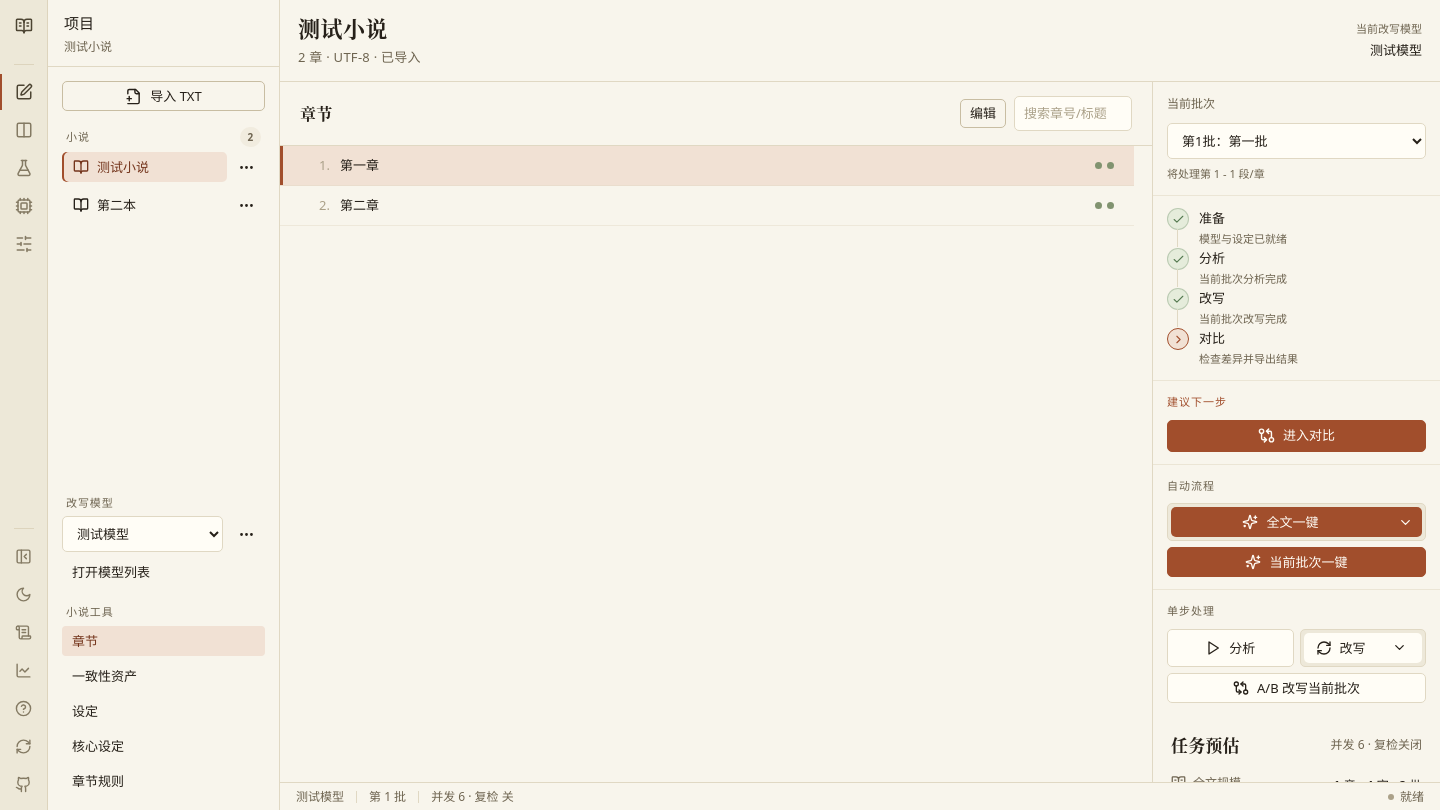
Test: App feature behavior › limits Compare editing during auto runs to batches before editable_before_batch_index
Expected: the heading "测试小说" is shown, x1=298 y1=12 x2=388 y2=43
Step 1. Click the button named "对比" → (24, 130), box x1=6 y1=112 x2=42 y2=148
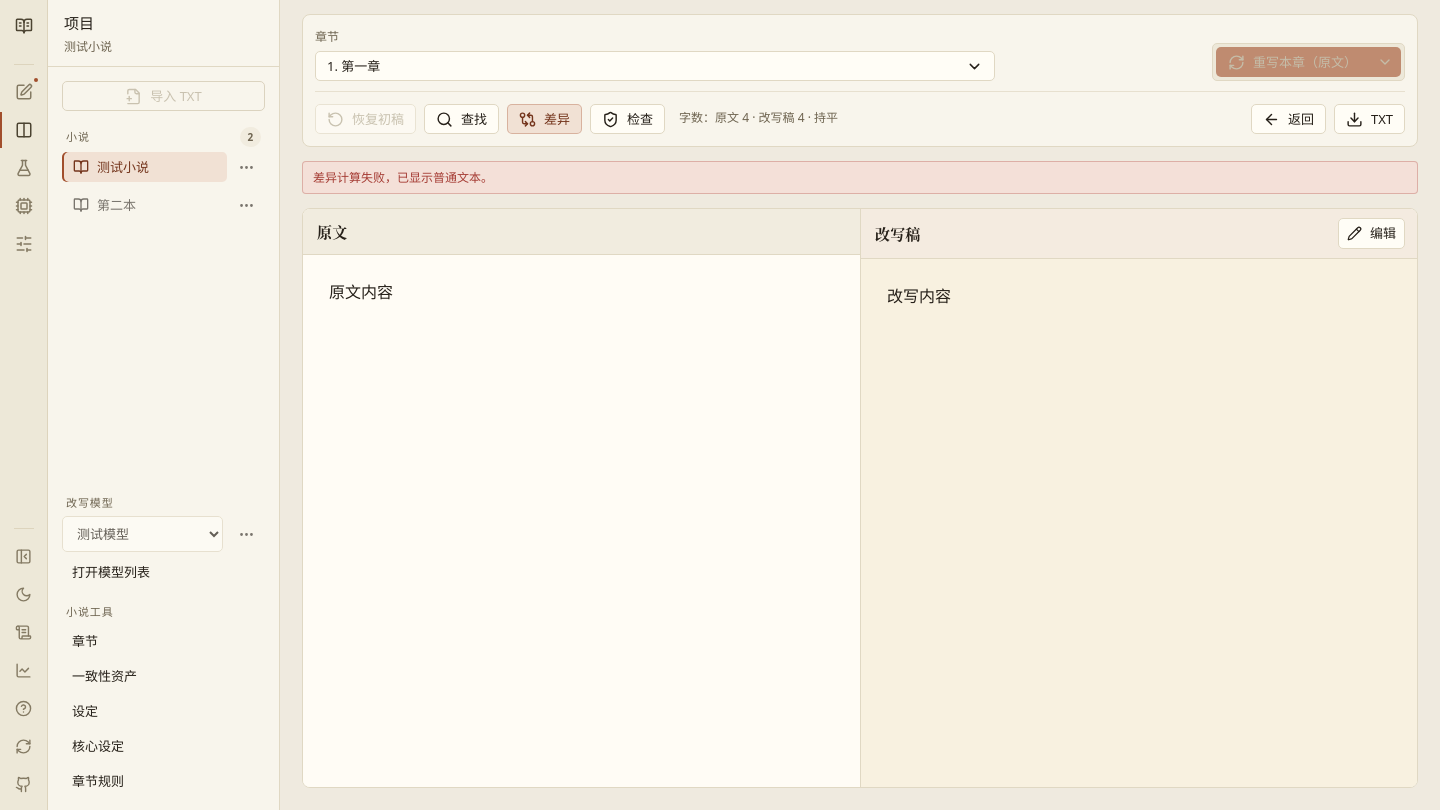
Expected: the button "编辑" is enabled, x1=1338 y1=218 x2=1405 y2=249
Now the button "重写本章（原文）" is disabled, box x1=1216 y1=47 x2=1369 y2=77
Step 2. Click the dropdown named "章节" → (354, 66), box x1=315 y1=51 x2=995 y2=81
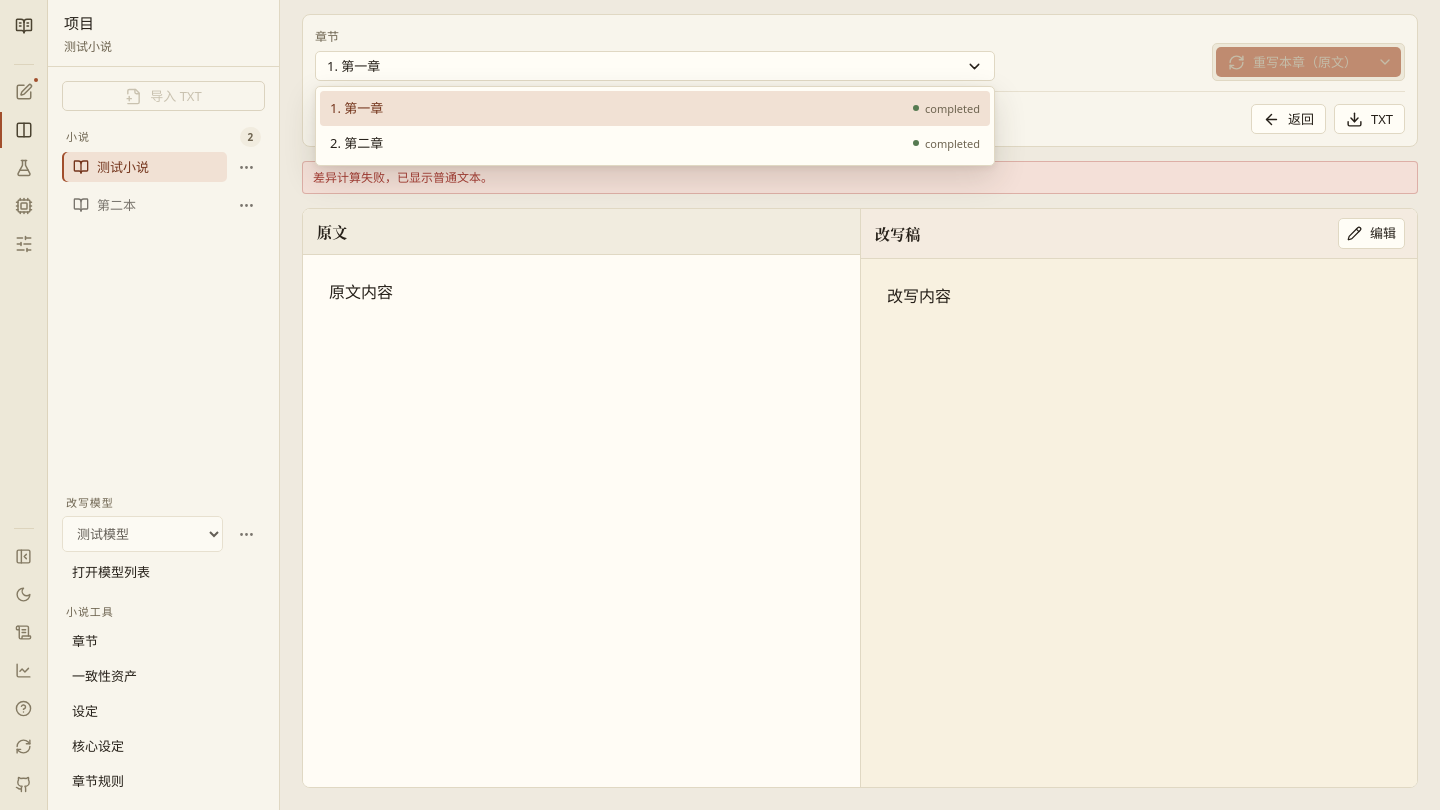
Step 3. Click the option "2. 第二章 completed" → (364, 143), box x1=320 y1=126 x2=990 y2=161
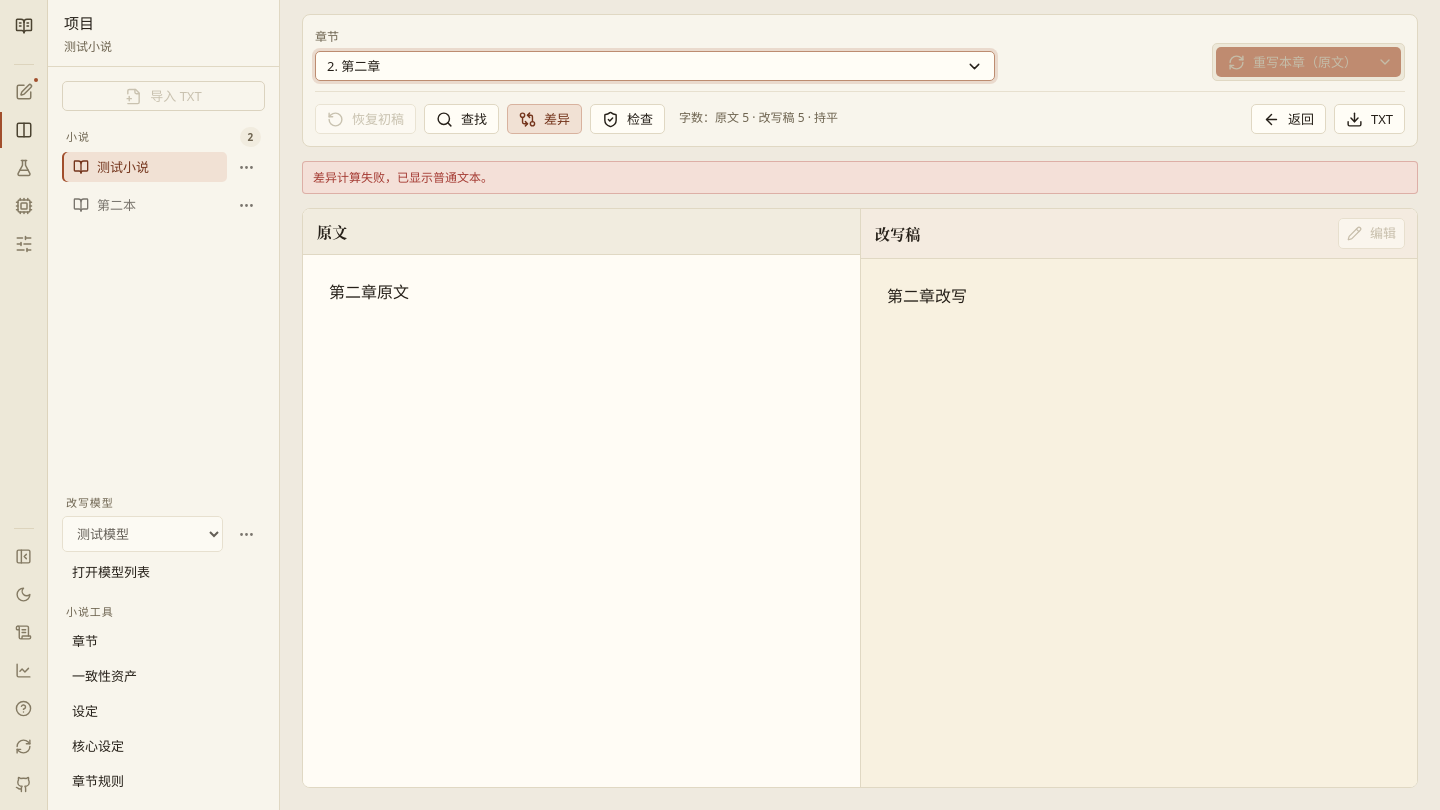
Now the button "编辑" is disabled, box x1=1338 y1=218 x2=1405 y2=249
